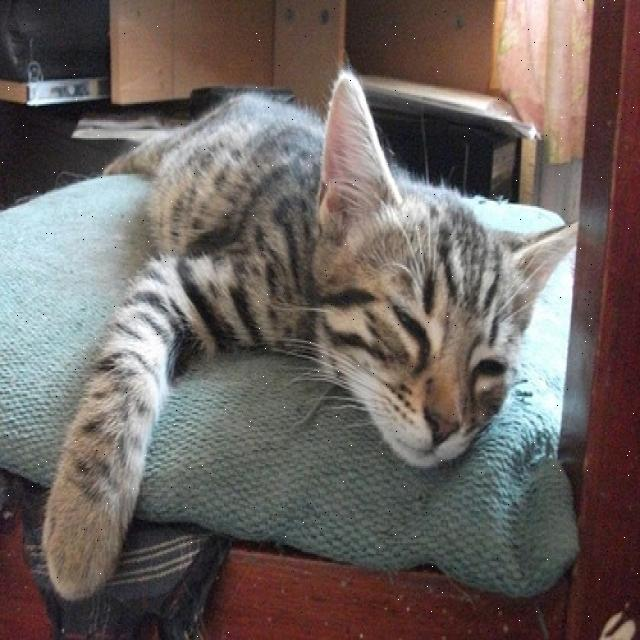cat: (42, 70, 576, 599)
